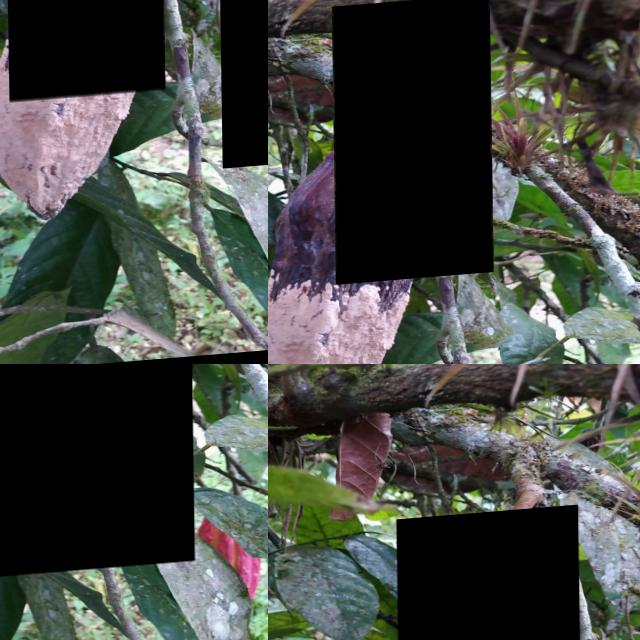Monilia: (396, 511, 580, 640)
Sana: (332, 2, 493, 290), (0, 364, 193, 586), (5, 0, 164, 106)
